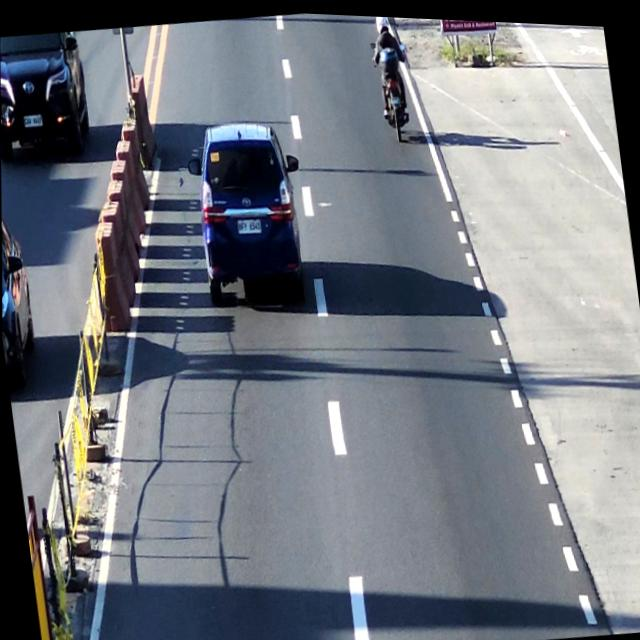Car: (188, 113, 308, 310), (369, 13, 413, 139)
License-Plate: (234, 214, 263, 235)
